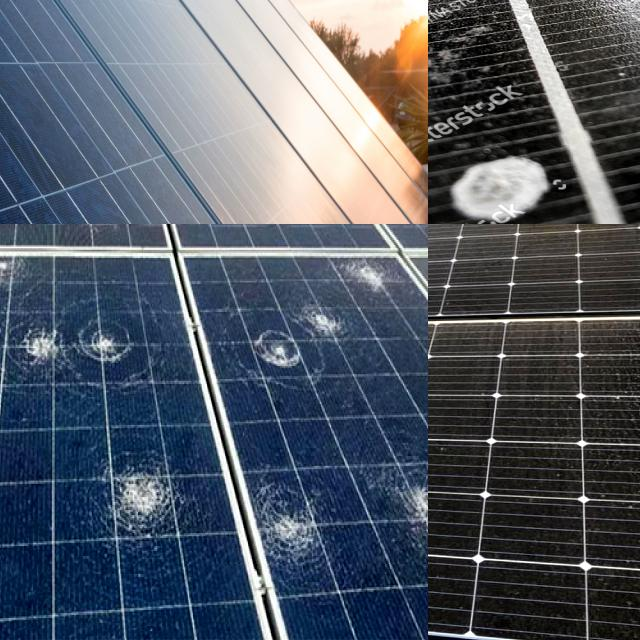bird: (431, 125, 563, 224), (473, 0, 597, 23)
crack: (428, 454, 640, 633), (428, 346, 620, 516), (428, 413, 558, 588), (428, 224, 640, 331), (0, 48, 116, 224)
hotspot: (243, 458, 347, 592), (86, 427, 187, 542), (315, 224, 428, 308), (365, 439, 428, 552), (225, 314, 314, 384), (6, 304, 87, 367), (135, 224, 261, 264), (77, 310, 148, 378), (344, 252, 399, 306), (0, 349, 37, 418), (302, 296, 354, 340), (0, 249, 40, 297)
